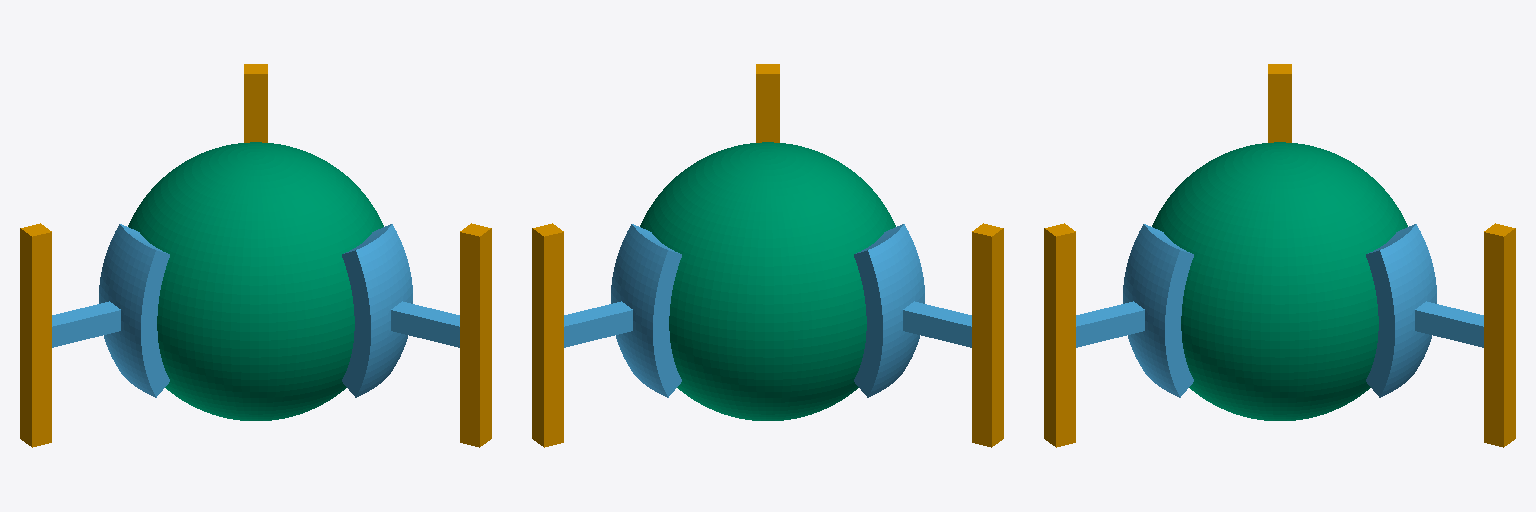
URDF robot description (ball_lock_xy):
<?xml version="1.0" ?>
<robot xmlns:xacro="http://www.ros.org/wiki/xacro" name="ball_lock_xy">

    <link name="rack_base">
        <visual>
            <origin xyz="0.0 0.0 0.0" rpy="0.0 0.0 0.0"/>
            <geometry>
                <mesh filename="./meshes/rack_base/rack_base.obj" scale="1 1 1"/>
            </geometry>
        </visual>

        <collision>
            <origin xyz="0.0 0.0 0.0" rpy="0.0 0.0 0.0"/>
            <geometry>
                <mesh filename="./meshes/rack_base/rack_base.obj" scale="1 1 1"/>
            </geometry>
        </collision>
    </link>

    <link name="rack">
        <inertial>
            <origin xyz="0.0 0.0 0.0" rpy="0 0 0"/>
            <mass value="0.6"/>
            <inertia ixx="0.038" ixy="0.0" ixz="0.0" iyy="0.038" iyz="0.0" izz="0.066"/>
        </inertial>

        <visual>
            <origin xyz="0.0 0.0 0.0" rpy="0.0 0.0 0.0"/>
            <geometry>
                <mesh filename="./meshes/ball_rack_030r/ball_rack_030r.obj" scale="1 1 1"/>
            </geometry>
        </visual>

        <collision>
            <origin xyz="0.0 0.0 0.0" rpy="0.0 0.0 0.0"/>
            <geometry>
                <mesh filename="./meshes/ball_rack_030r/ball_rack_030r.obj" scale="1 1 1"/>
            </geometry>
        </collision>
    </link>

    <link name="ball">
        <inertial>
            <origin xyz="0.0 0.0 0.0" rpy="0 0 0"/>
            <mass value="2.0"/>
            <inertia ixx="0.118" ixy="0.0" ixz="0.0" iyy="0.118" iyz="0.0" izz="0.118"/>
        </inertial>

        <visual>
            <origin xyz="0.0 0.0 0.0" rpy="0.0 0.0 0.0"/>
            <geometry>
                <mesh filename="./meshes/ball_with_frame/ball_with_frame.obj" scale="3 3 3"/>
            </geometry>
        </visual>

        <collision>
            <origin xyz="0.0 0.0 0.0" rpy="0.0 0.0 0.0"/>
            <geometry>
                <sphere radius="0.3"/>
            </geometry>
        </collision>
    </link>

    <joint name="rack_joint" type="prismatic">
        <origin xyz="0.0 0.0 0.0" rpy="0.0 0.0 0.0"/>
        <parent link="rack_base"/>
        <child link="rack"/>
        <axis xyz="0.0 0.0 1.0"/>
        <limit lower="-1.0" upper="1.0" effort="0.0" velocity="0.0"/>
    </joint>

    <joint name="spherical_joint" type="fixed">
        <origin xyz="0.0 0.0 0.0" rpy="0.0 0.0 0.0"/>
        <parent link="rack"/>
        <child link="ball"/>
    </joint>

</robot>

--- What the picture shows (computed from the rendered views, not written in the file) ---
3 views of the same robot in one strip: view 1: azimuth 30°, elevation 25°; view 2: azimuth 150°, elevation 25°; view 3: azimuth 270°, elevation 25° (orthographic).
Robot: ball_lock_xy — 3 links, 2 joints (1 prismatic, 1 fixed); root link rack_base; default pose: all joints at 0.
Visible links, largest first — view 1: ball, rack, rack_base; view 2: ball, rack, rack_base; view 3: ball, rack, rack_base.
Boxes of the visible links, bbox=[...] form: ball: bbox=[128, 142, 383, 420]; rack: bbox=[52, 224, 459, 397]; rack_base: bbox=[20, 64, 491, 447]; ball: bbox=[640, 142, 895, 420]; rack: bbox=[564, 224, 971, 397]; rack_base: bbox=[532, 64, 1003, 447]; ball: bbox=[1152, 142, 1407, 420]; rack: bbox=[1076, 224, 1483, 397]; rack_base: bbox=[1044, 64, 1515, 447].
Bounding box of the posed robot: 0.8767 × 1.01 × 0.6 m (x, y, z).
Meshes: 3 distinct files referenced, 3 mesh visuals loaded (3 OBJ).
